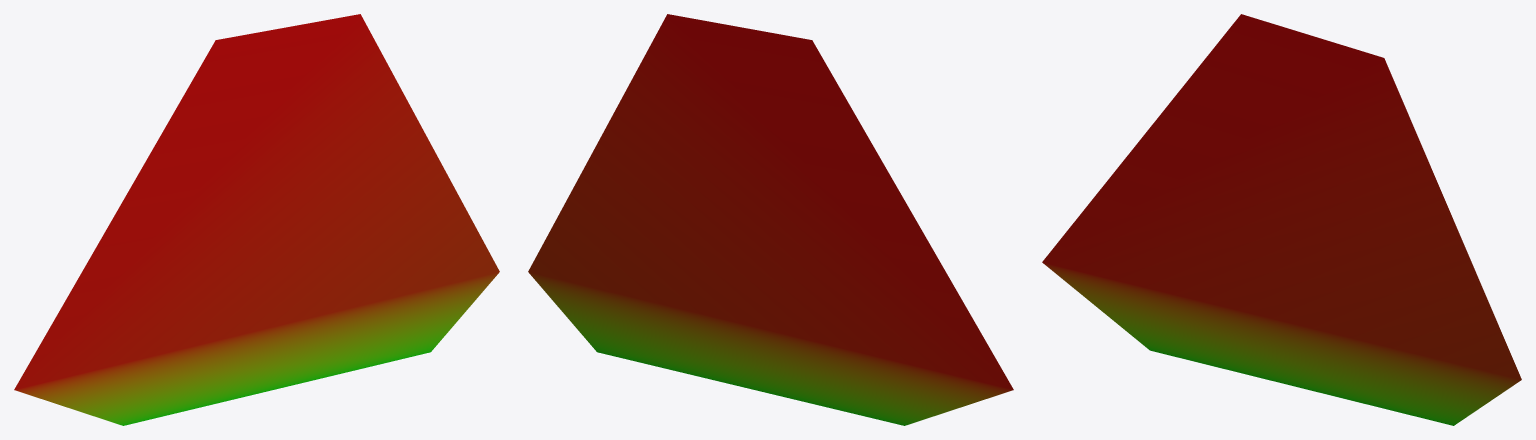
Rendered from Small Balsam_LOD6_Var7_xefmcgrqx.fbx.
3 renders of one model, left to right at view 1: azimuth 30°, elevation 25°; view 2: azimuth 150°, elevation 25°; view 3: azimuth 330°, elevation 25°, orthographic.
Visible parts, largest first — view 1: _64xr_Var7_LOD6; view 2: _64xr_Var7_LOD6; view 3: _64xr_Var7_LOD6.
Boxes of the visible parts, box(x1,y1,x2,y2) form: _64xr_Var7_LOD6: box(14, 14, 499, 425); _64xr_Var7_LOD6: box(528, 14, 1013, 425); _64xr_Var7_LOD6: box(1042, 14, 1521, 425).
Size of the model in its own units: 74.29 by 53.26 by 2.33e-06.
